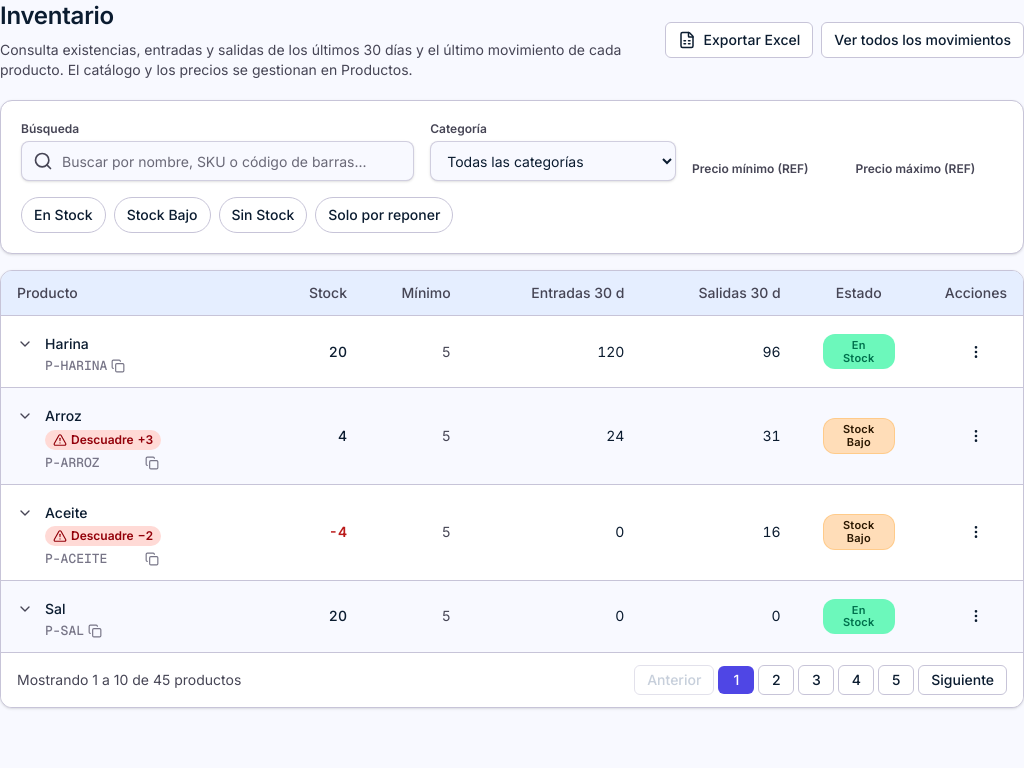
Test: InventoryListPage · vista única de stock › movimientos en línea › expands a row with its last 10 movements, writes 'product' in the URL and collapses it again
Click the button named "Ver movimientos de Arroz".
click(25, 416)  # box [9,400,41,432]
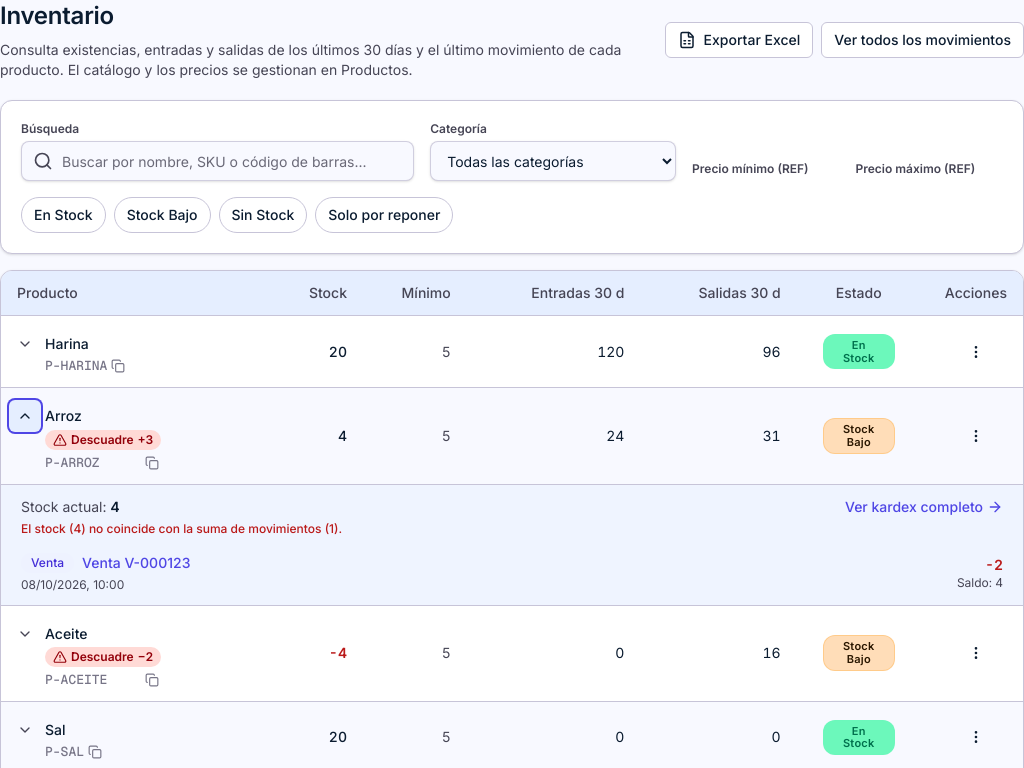
Check: the element named "Últimos movimientos de Arroz" is shown, box [1,484,1023,604]
Check: the button named "Ver movimientos de Arroz" is expanded
Check: the link "Venta V-000123" is shown, box [82,552,190,572]
Click the button named "Ver movimientos de Arroz".
click(25, 416)  # box [9,400,41,432]
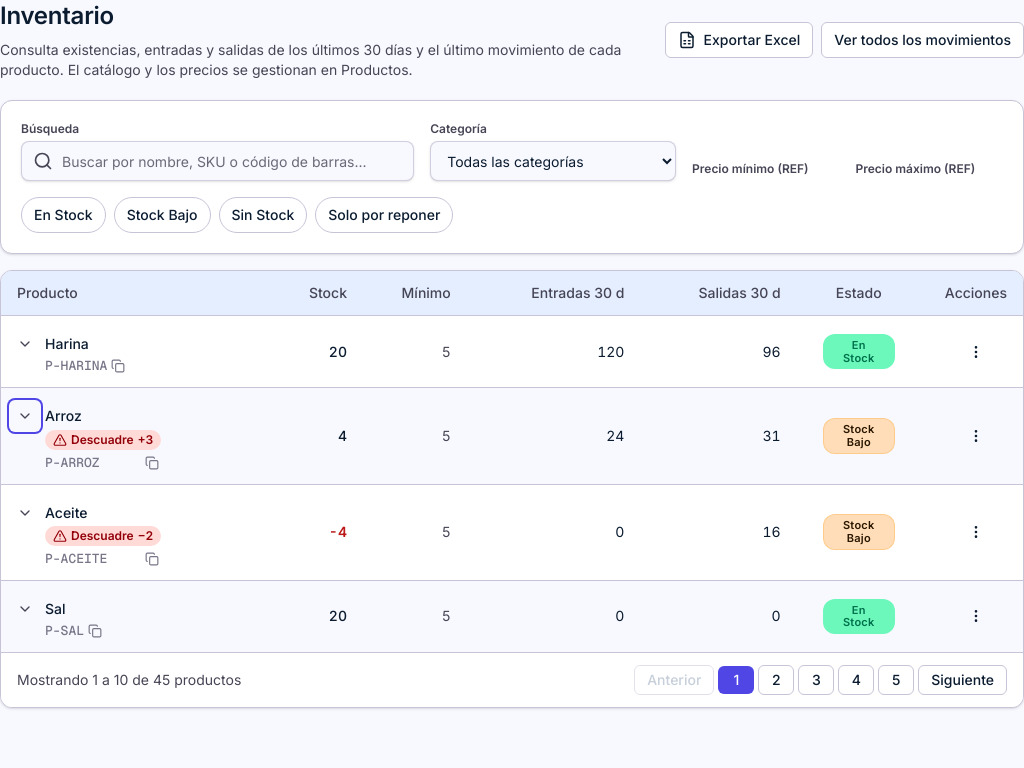
Check: the button named "Ver movimientos de Arroz" is collapsed, box [9,400,41,432]
